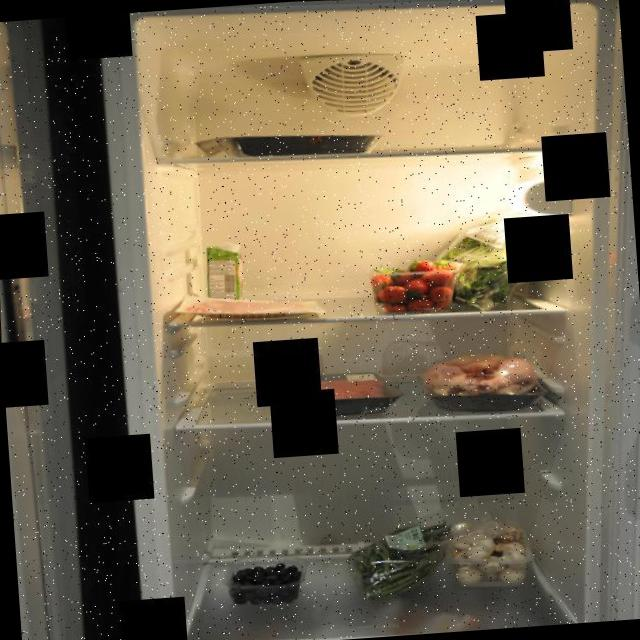Carne cerdo: (175, 290, 324, 328)
Carne pollo: (414, 342, 553, 415)
Carne vacuno: (272, 366, 401, 420)
Champiñones: (444, 512, 536, 592)
blueberries: (220, 548, 308, 612)
green_beans: (345, 514, 456, 600)
heavy_cream: (200, 239, 246, 303)
spinach: (434, 212, 554, 316)
strawberries: (364, 250, 462, 319)
